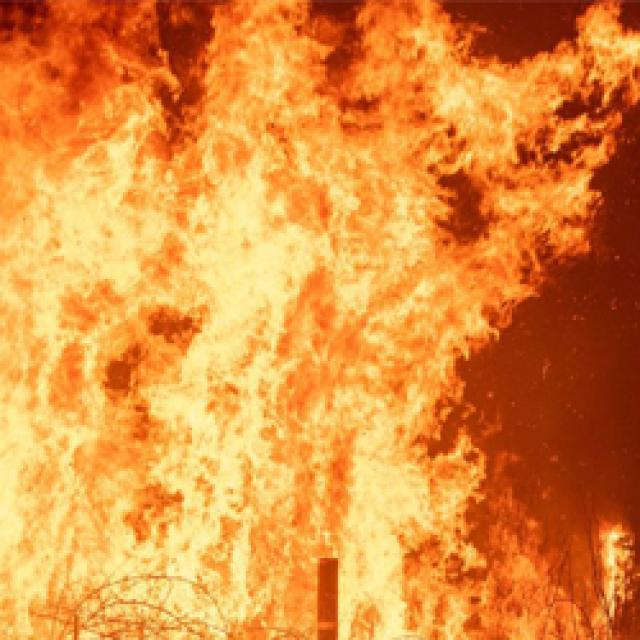Fire: (0, 0, 640, 640)
Smoke: (442, 184, 640, 546)
